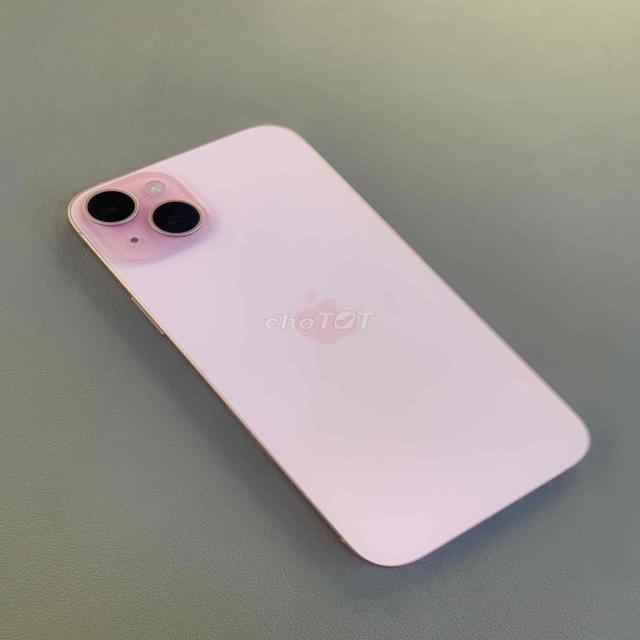gen_15: (58, 118, 599, 573)
